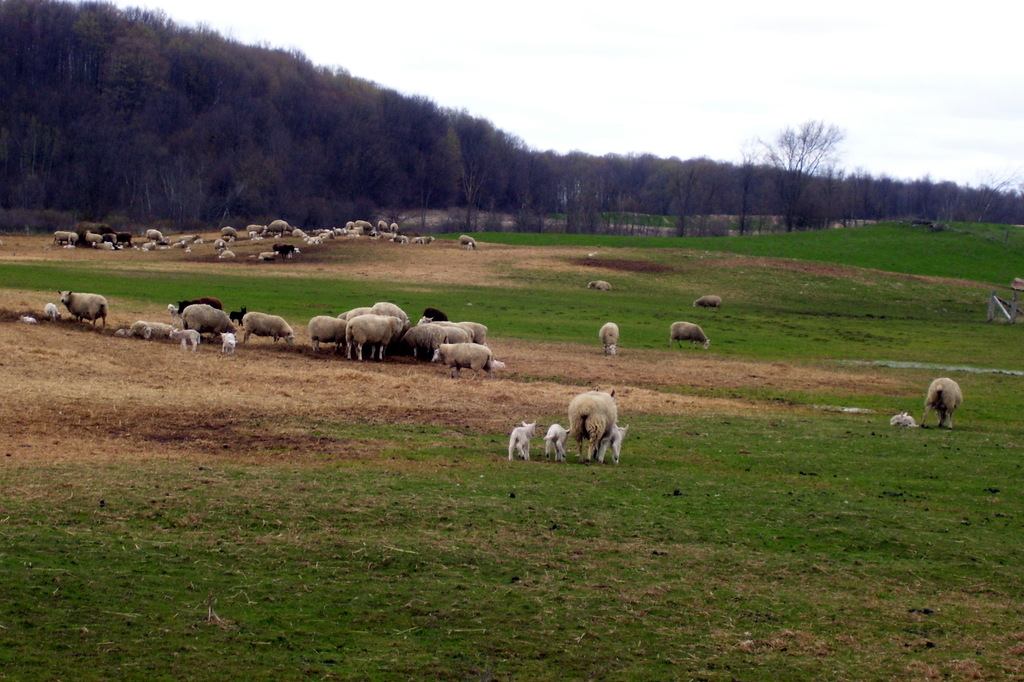sheep: (569, 383, 616, 463), (922, 376, 960, 431), (667, 320, 713, 350), (509, 419, 537, 464), (543, 424, 569, 466), (599, 320, 619, 353), (889, 409, 917, 425), (694, 295, 721, 310), (589, 283, 612, 295), (589, 279, 609, 288)
